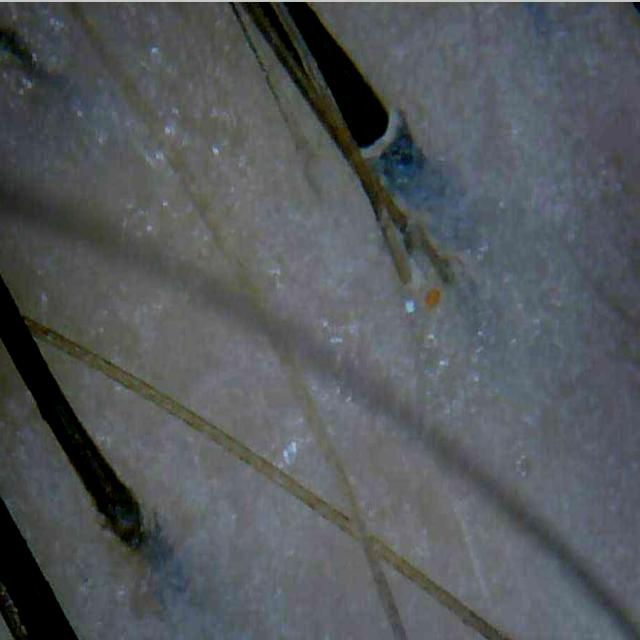d: (281, 440, 299, 465), (405, 300, 416, 313)
o: (1, 2, 109, 128), (406, 308, 491, 419), (458, 225, 490, 280)
